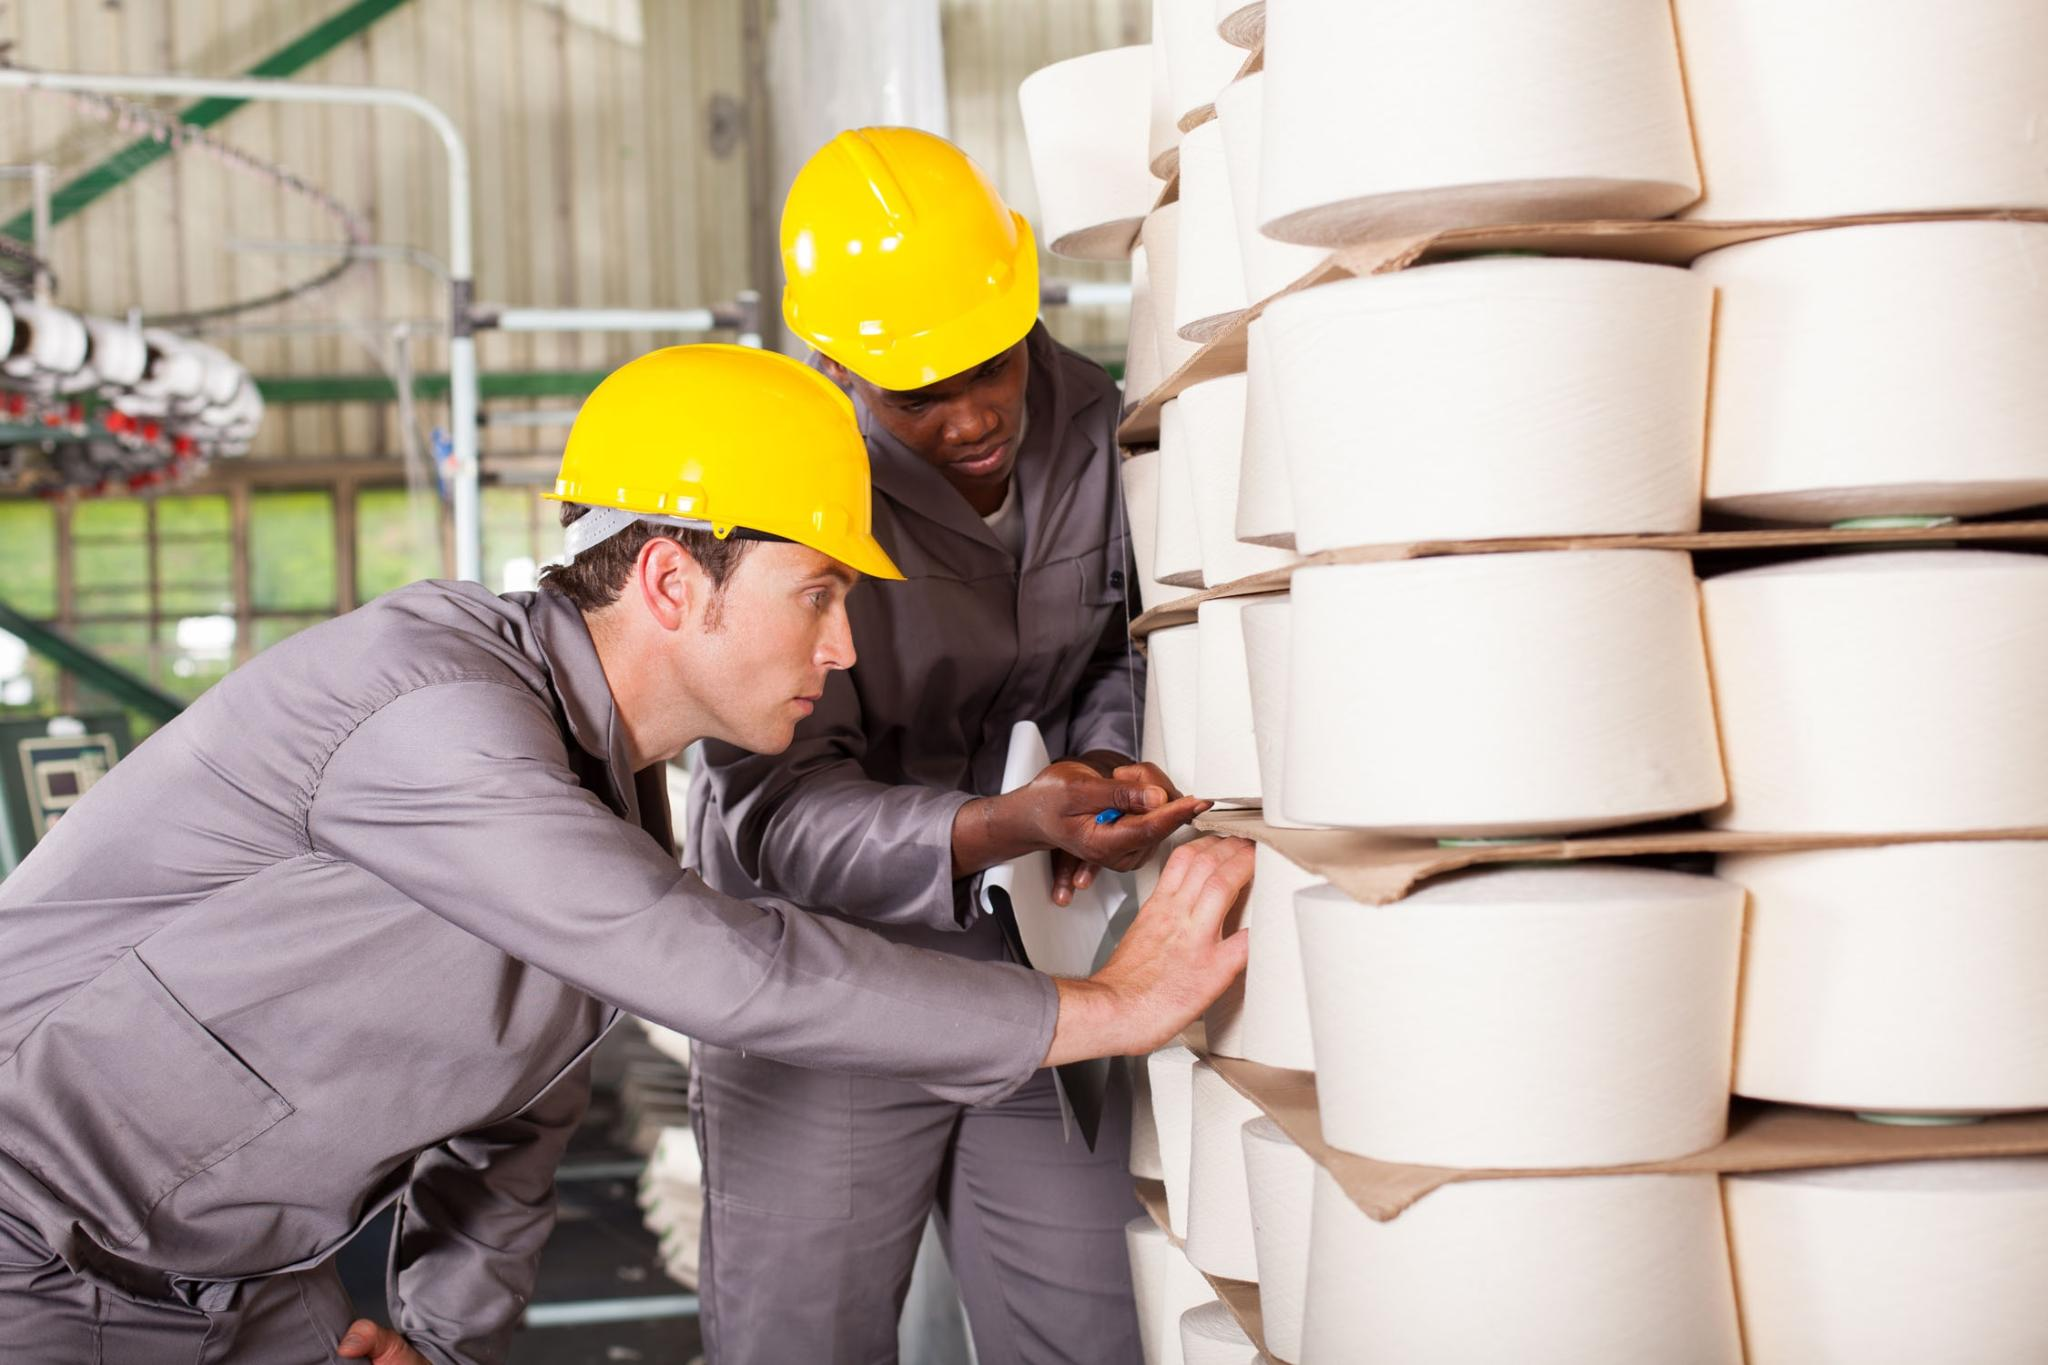helmet: (538, 340, 874, 585), (770, 123, 1046, 396)
wear: (6, 611, 574, 1333), (877, 466, 1136, 932)
